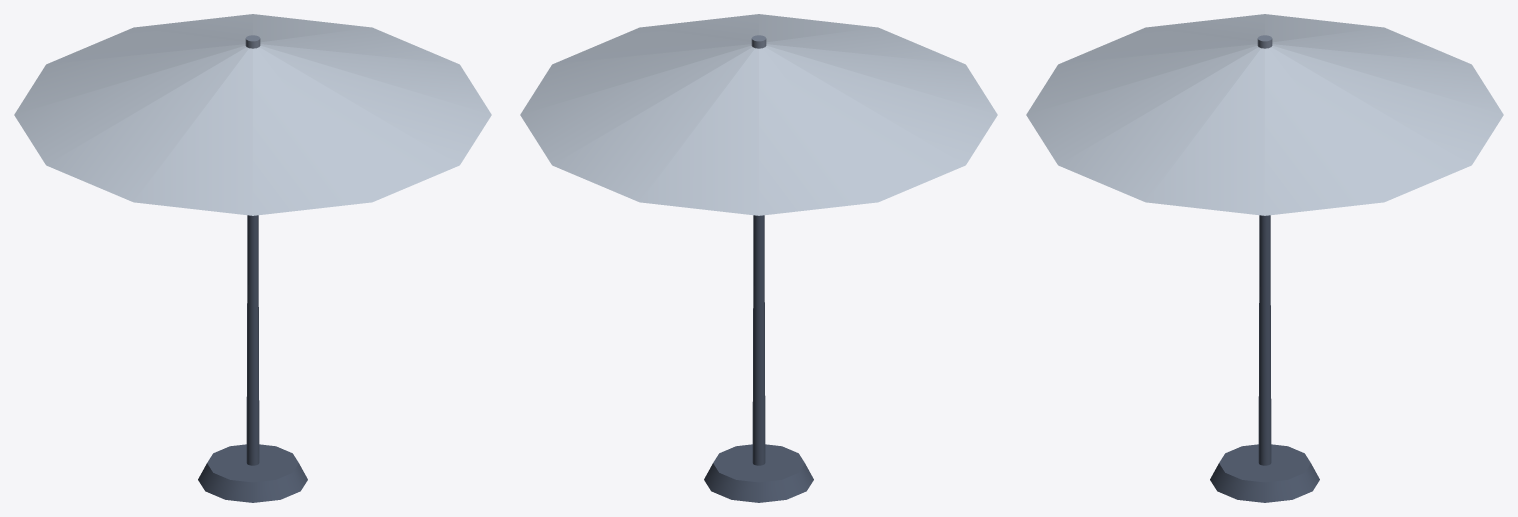
The model's file is 遮阳伞-lite.glb.
3 renders of one model, left to right at view 1: azimuth 30°, elevation 25°; view 2: azimuth 150°, elevation 25°; view 3: azimuth 270°, elevation 25°, orthographic.
Visible parts, largest first — view 1: garden-umbrella; view 2: garden-umbrella; view 3: garden-umbrella.
Boxes of the visible parts, <box> form: garden-umbrella: <box>14,14,491,502</box>; garden-umbrella: <box>520,14,997,502</box>; garden-umbrella: <box>1026,14,1503,502</box>.
Bounding box in the file's own units: 2.6 × 2.65 × 2.6.
